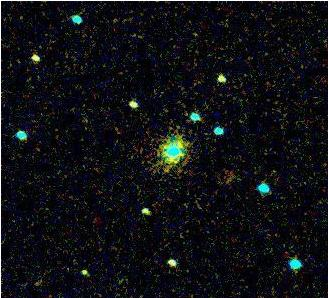star: (70, 258, 100, 288)
